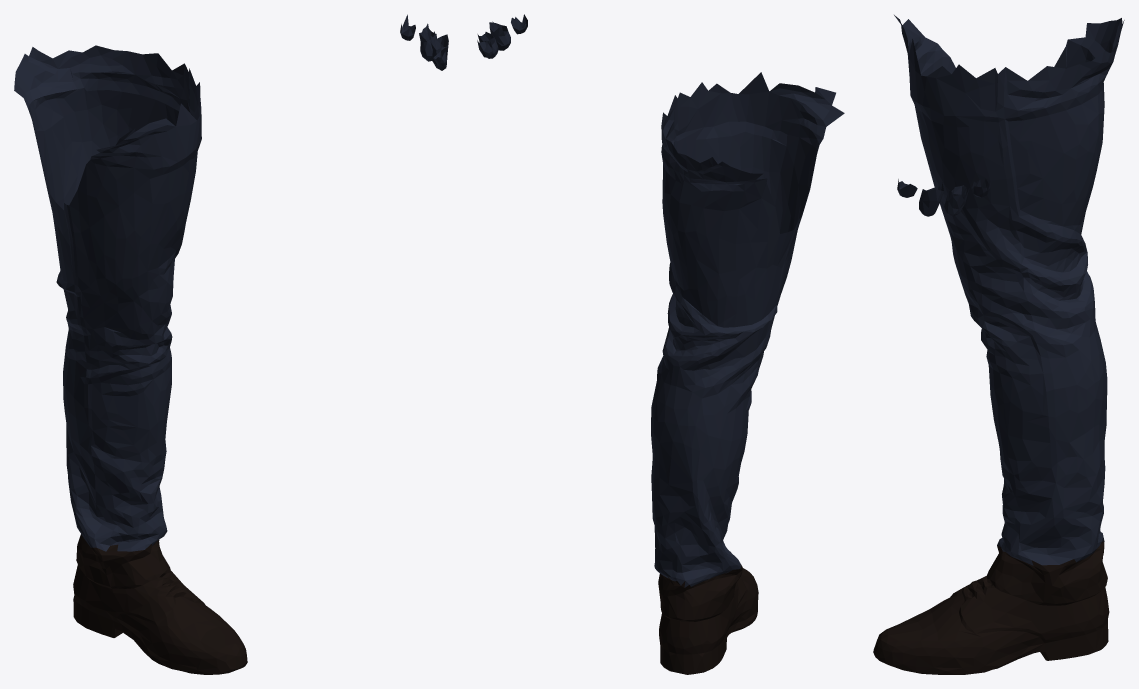
Rendered from prof_boss_leg_l.obj.
The picture shows the model from 3 angles, left to right: view 1: azimuth 30°, elevation 25°; view 2: azimuth 150°, elevation 25°; view 3: azimuth 270°, elevation 25°; orthographic projection. The views are drawn at different scales.
Visible parts, largest first — view 1: BossProf.001; view 2: BossProf.001; view 3: BossProf.001.
Boxes of the visible parts, box(x1,y1,x2,y2) form: BossProf.001: box(14, 14, 448, 674); BossProf.001: box(477, 14, 844, 674); BossProf.001: box(873, 15, 1124, 674).
Bounding box in the file's own units: 0.8016 × 1.2 × 0.4527.
